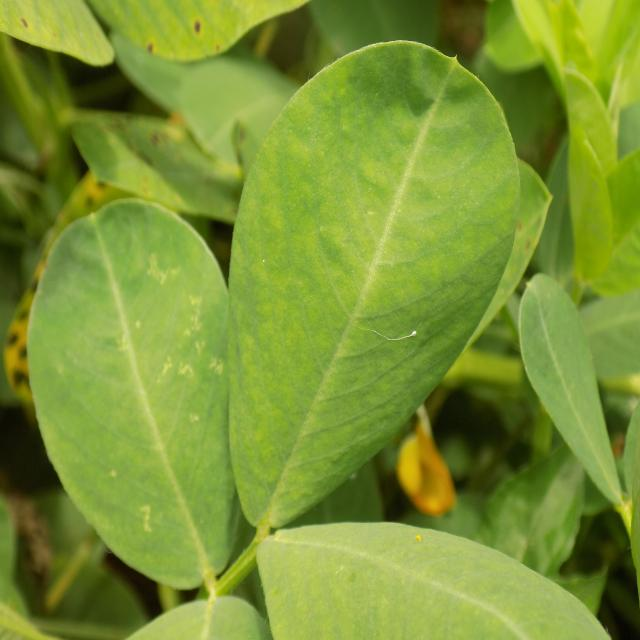Ground nut_healthy: (226, 37, 521, 527), (24, 198, 252, 585)
